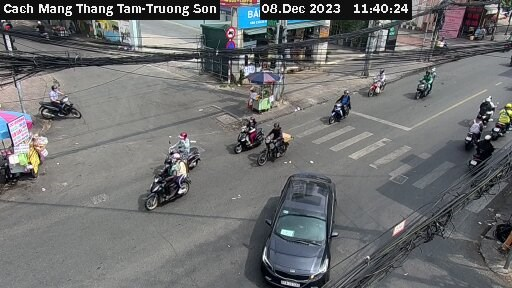car: (260, 171, 352, 286)
motorbike: (36, 79, 102, 139), (147, 163, 198, 207), (156, 132, 225, 164), (323, 86, 367, 127), (460, 132, 498, 174), (463, 110, 498, 153), (261, 126, 299, 163), (364, 64, 400, 102), (234, 118, 270, 149), (414, 69, 447, 98), (472, 90, 500, 121), (495, 99, 512, 134)
